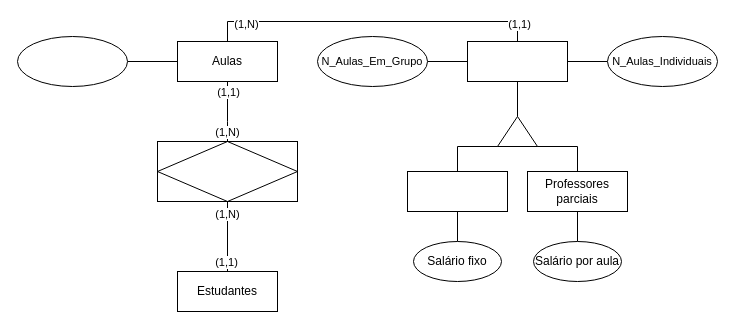
The diagram is 735 pixels wide and 329 high, and some of its shapes have lost their labels. The shapes that lost their labels are listed below. From the top down, each one's centre as x and y in pixels, then its label:
point (72, 61): Modalidade
point (517, 61): Professor
point (227, 171): Ter_Aula
point (457, 191): Professores integrais
